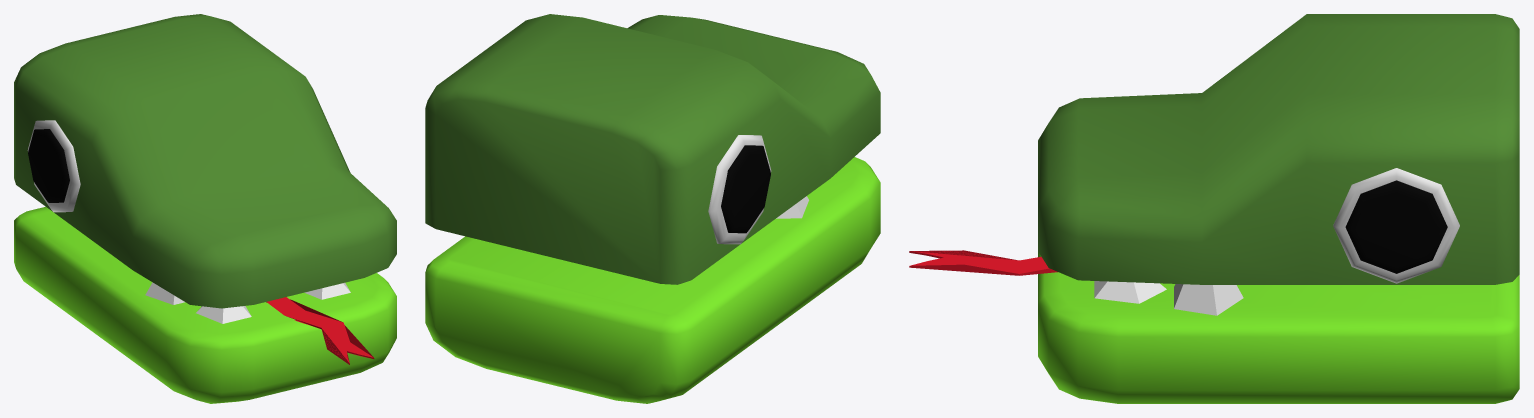
The model's file is GreenSnake.fbx.
3 renders of one model, left to right at view 1: azimuth 30°, elevation 25°; view 2: azimuth 150°, elevation 25°; view 3: azimuth 270°, elevation 25°, orthographic. The views are drawn at different scales.
Visible parts, largest first — view 1: Cube.005, Cube, Cylinder.001, Cube.001, Cylinder, Cone.001, Cone, Cone.002; view 2: Cube.005, Cube, Cylinder.001, Cylinder; view 3: Cube.005, Cube, Cylinder.002, Cylinder.004, Cube.001, Cone.003, Cone.
Boxes of the visible parts, x1,y1,x2,y2 form: Cube.005: (14,14,396,308); Cube: (14,206,396,403); Cylinder.001: (28,129,69,202); Cube.001: (266,297,374,364); Cylinder: (27,120,80,212); Cone.001: (196,306,251,323); Cone: (304,282,350,299); Cone.002: (145,282,184,304); Cube.005: (425,14,880,284); Cube: (425,157,880,403); Cylinder.001: (721,145,770,233); Cylinder: (708,135,771,244); Cube.005: (1038,14,1519,284); Cube: (1038,251,1519,403); Cylinder.002: (1345,180,1447,273); Cylinder.004: (1333,168,1459,283); Cube.001: (909,250,1057,275); Cone.003: (1174,284,1243,315); Cone: (1094,281,1166,303).
Size of the model in its own units: 218 by 205 by 380.
